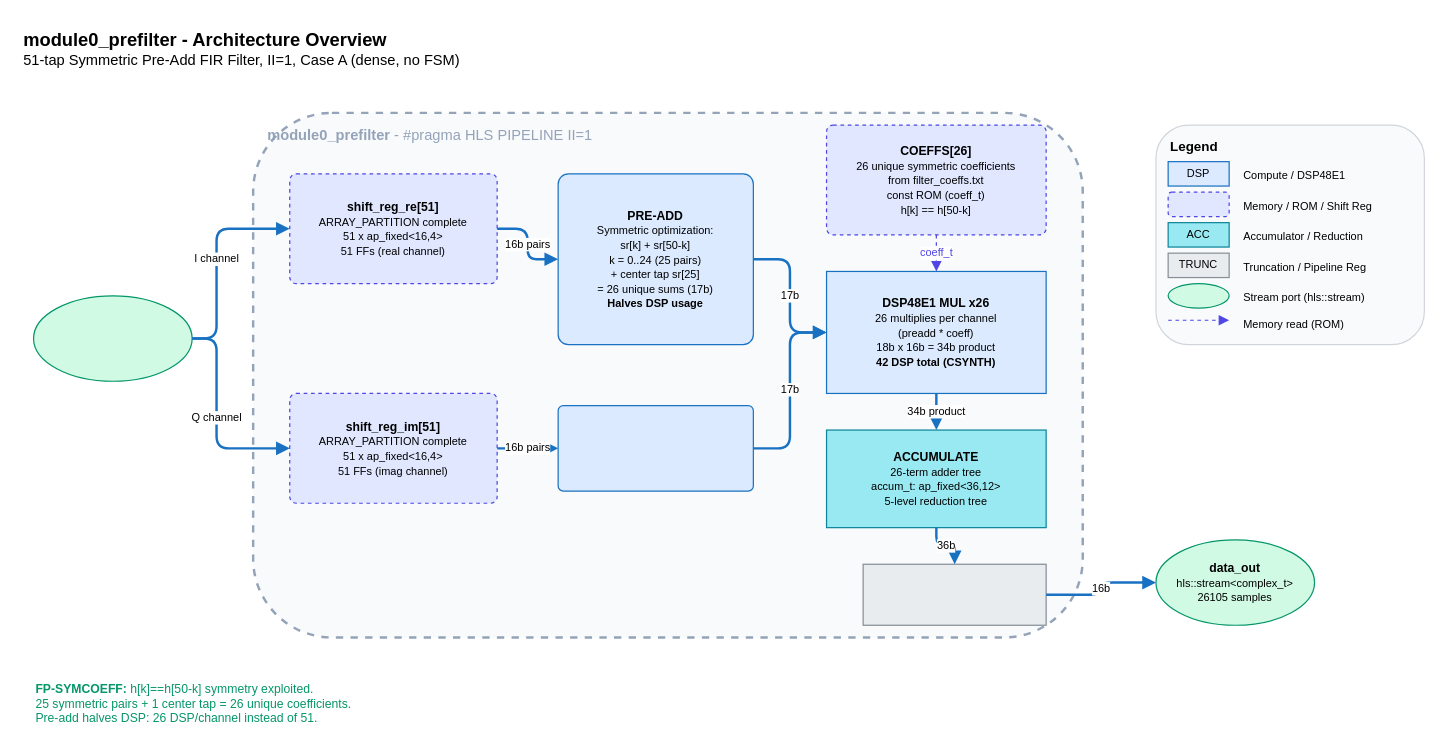
The diagram is 1446 pixels wide and 755 high, and some of its shapes have lost their labels. Each missing label, with the box of its shape:
data_in hls::stream<complex_t> 26155 samples: (32, 295, 192, 381)
I/O: (1167, 282, 1229, 308)
MEM: (1167, 191, 1229, 217)
PRE-ADD (Q) Same symmetric pairs for imag channel: (557, 404, 753, 491)
TRUNCATE accum_t (36b) -> data_t (16b) saturate + round: (862, 563, 1046, 625)
